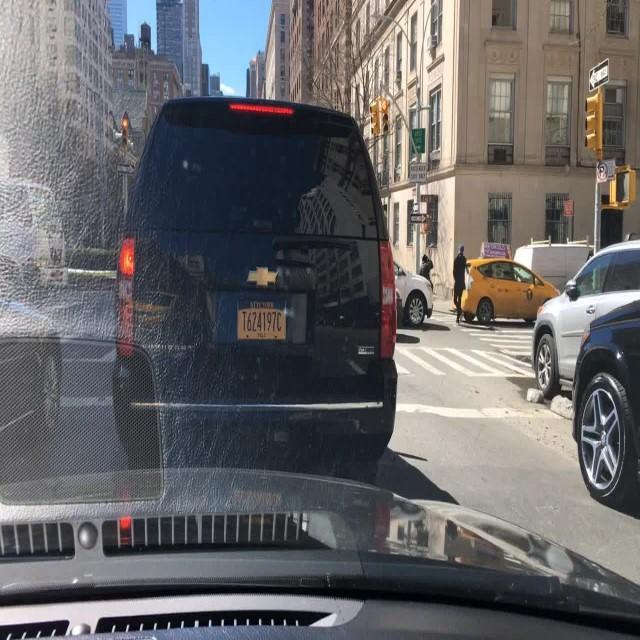normal: (93, 69, 402, 494)
